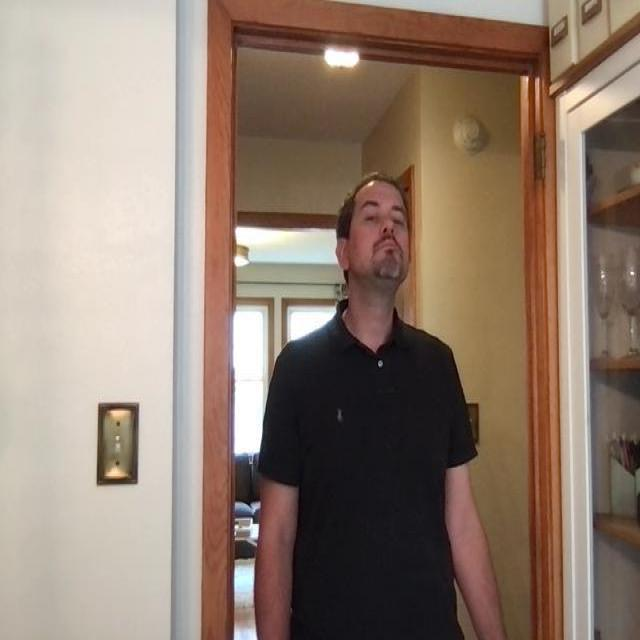face: (335, 171, 413, 288)
